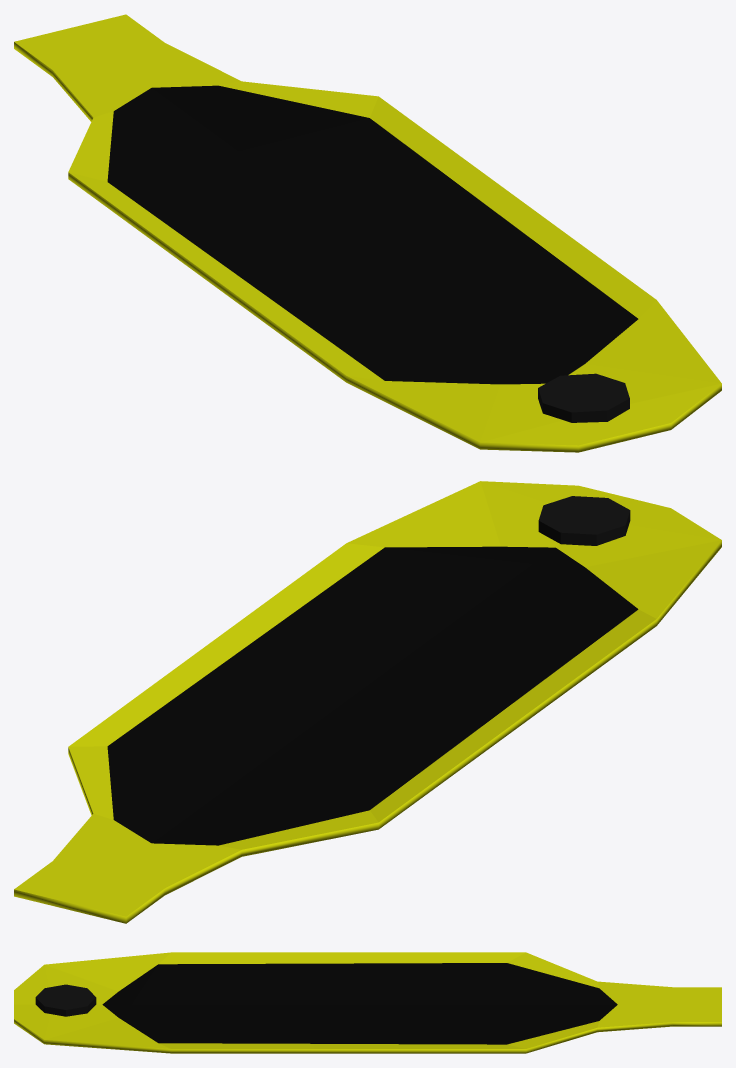
File: board_type_1.fbx
3 renders of one model, top to bottom at view 1: azimuth 30°, elevation 25°; view 2: azimuth 150°, elevation 25°; view 3: azimuth 270°, elevation 25°, orthographic. The views are drawn at different scales.
Visible parts, largest first — view 1: Board; view 2: Board; view 3: Board.
Boxes of the visible parts, <box> form: Board: <box>14,14,721,452</box>; Board: <box>14,481,721,923</box>; Board: <box>14,952,721,1053</box>.
Bounding box in the file's own units: 167 × 9.5 × 517.
